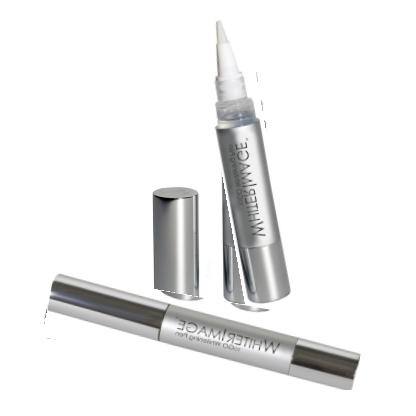Pen: (44, 286, 364, 378), (208, 16, 282, 305)
